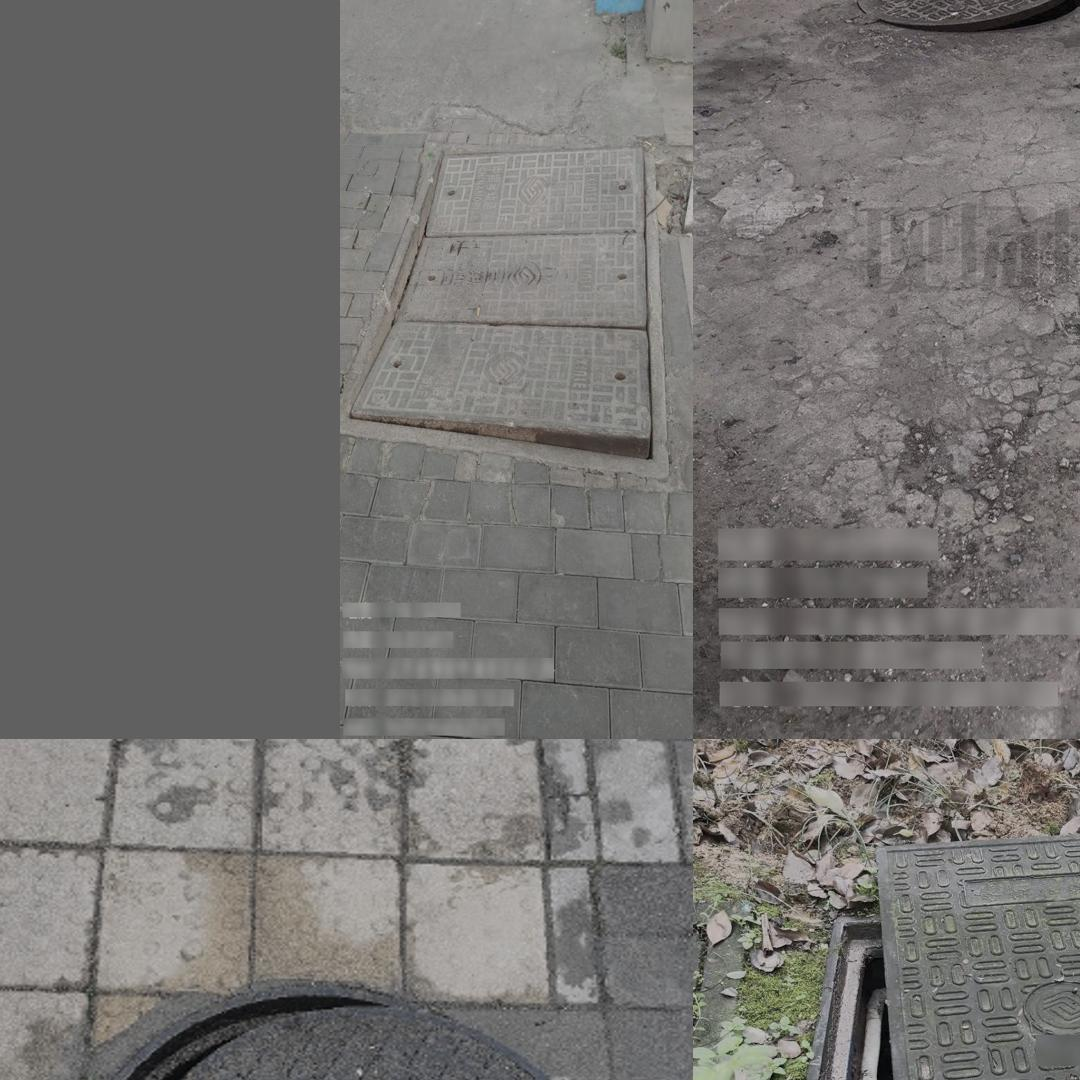uncovered: (347, 141, 670, 478), (721, 825, 1080, 1080), (63, 978, 623, 1080), (851, 0, 1080, 37)
